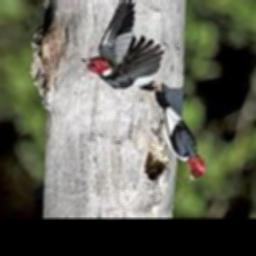Woodpecker: (80, 0, 164, 88), (153, 91, 204, 183)
